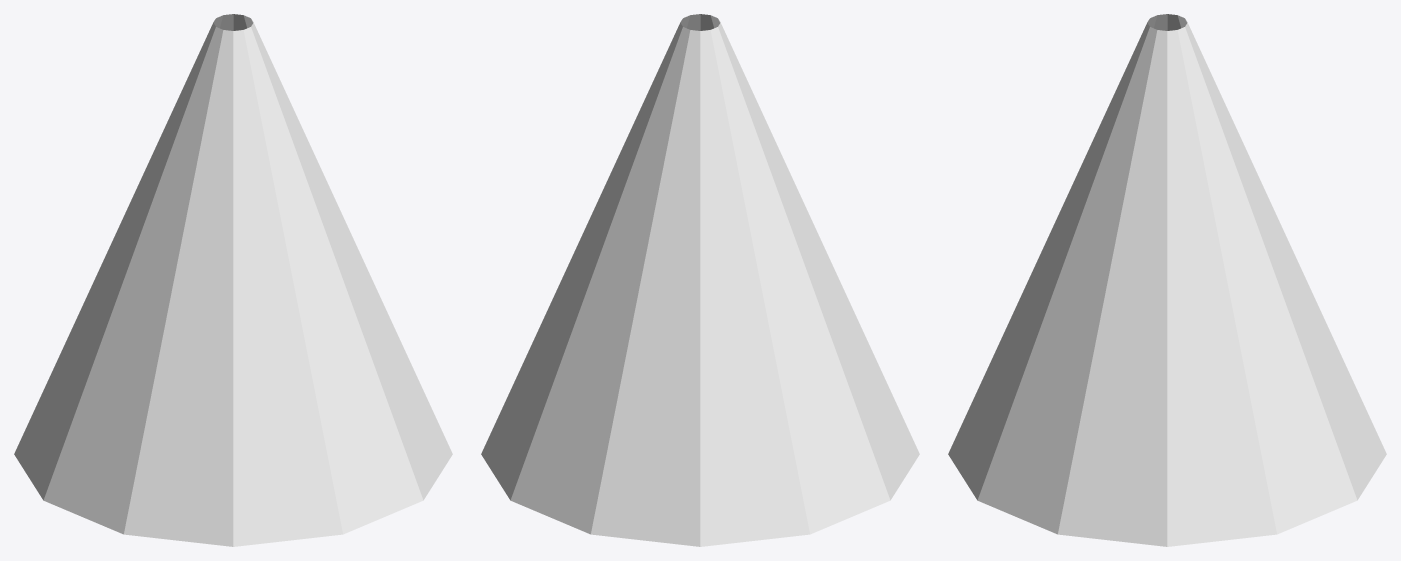
The model's file is Lantern_Light.fbx.
3 views of the same model, side by side, from view 1: azimuth 30°, elevation 25°; view 2: azimuth 150°, elevation 25°; view 3: azimuth 270°, elevation 25° (orthographic).
Parts seen in each view (by area): view 1: Cylinder; view 2: Cylinder; view 3: Cylinder.
Boxes of the visible parts, bbox=[...] form: Cylinder: bbox=[14, 14, 452, 546]; Cylinder: bbox=[481, 14, 919, 546]; Cylinder: bbox=[948, 14, 1386, 546].
Bounding box in the file's own units: 257 × 279 × 257.
